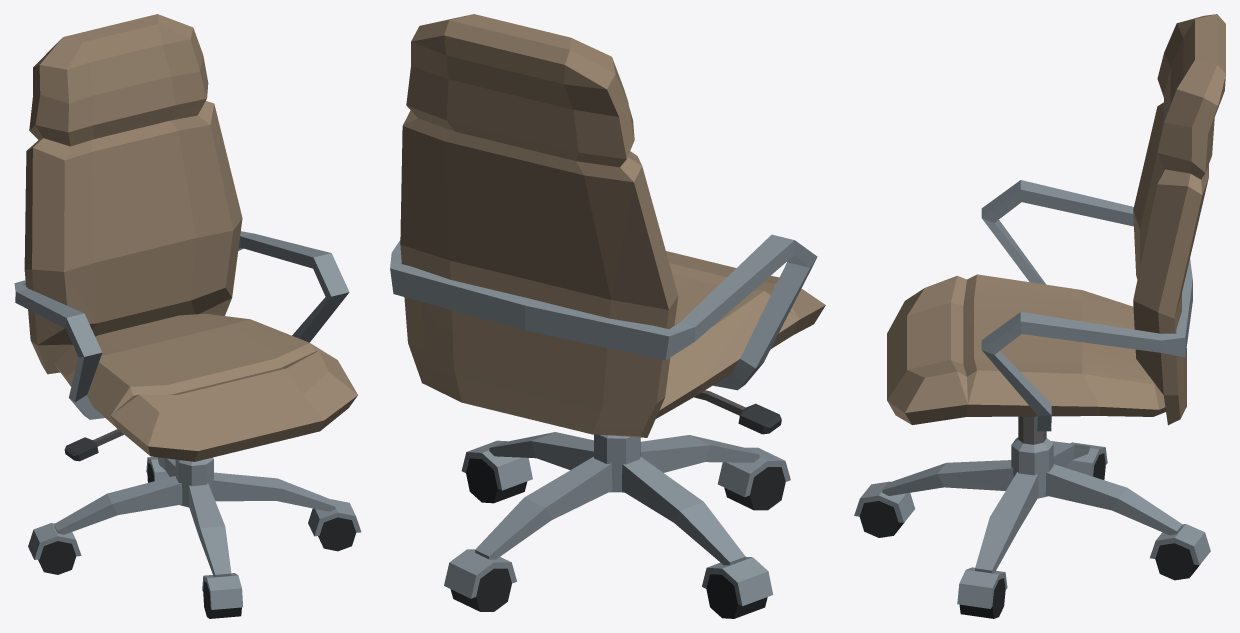
Rendered from chair.glb.
3 renders of one model, left to right at view 1: azimuth 30°, elevation 25°; view 2: azimuth 150°, elevation 25°; view 3: azimuth 270°, elevation 25°, orthographic. The views are drawn at different scales.
Visible parts, largest first — view 1: SM_Prop_Chair_04; view 2: SM_Prop_Chair_04; view 3: SM_Prop_Chair_04.
Boxes of the visible parts, box(x1,y1,x2,y2) form: SM_Prop_Chair_04: box(14, 14, 361, 618); SM_Prop_Chair_04: box(390, 14, 825, 618); SM_Prop_Chair_04: box(854, 14, 1225, 618).
Size of the model in its own units: 0.6795 by 1.08 by 0.7081.
1 material, 1 textured.
